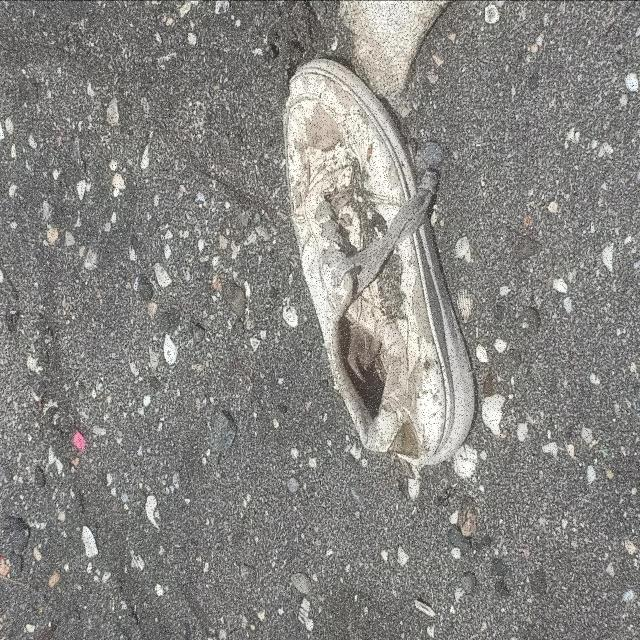rubber_waste: (286, 54, 476, 465)
